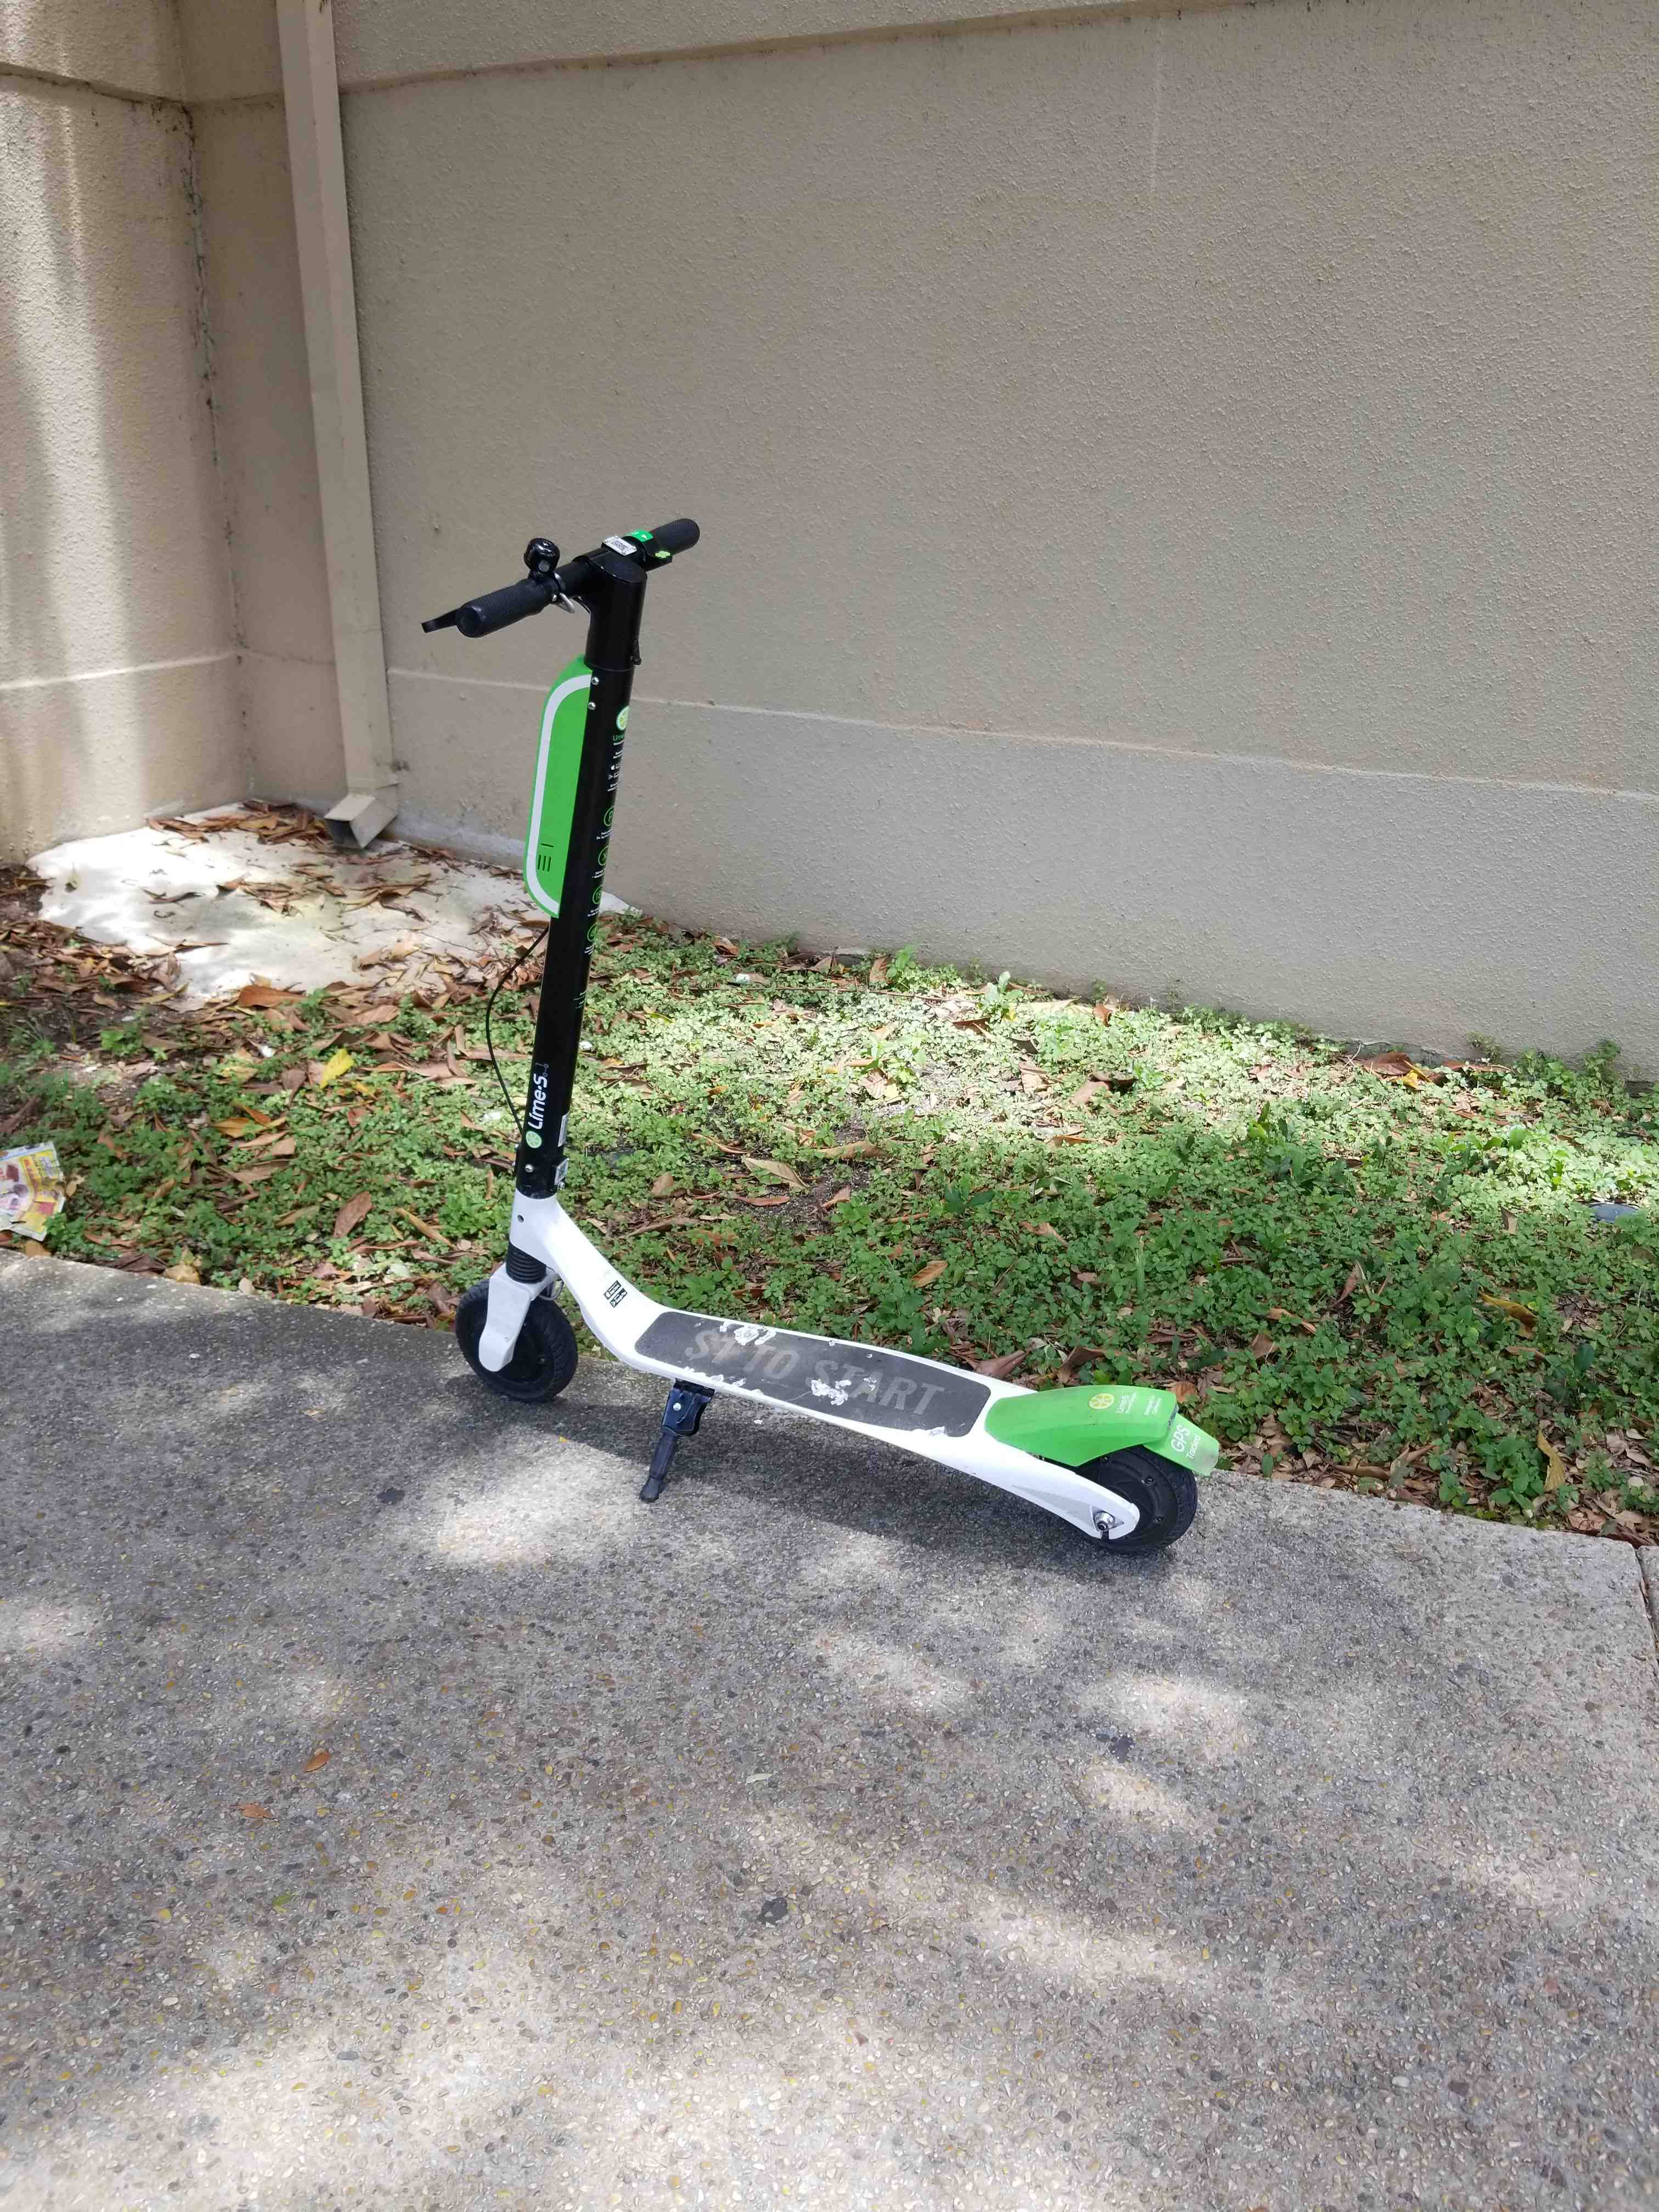scooter: (411, 482, 1265, 1573)
